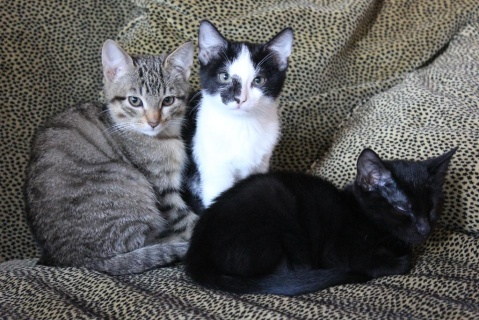Cat: (179, 144, 459, 298), (23, 39, 199, 276), (184, 20, 299, 211)
